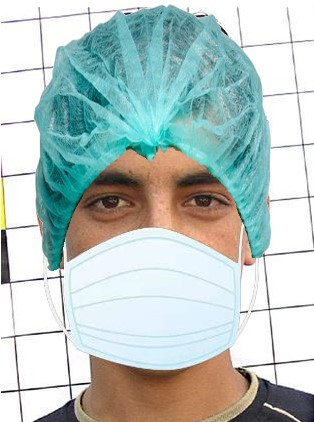with_mask_and_cap: (37, 4, 273, 372)
